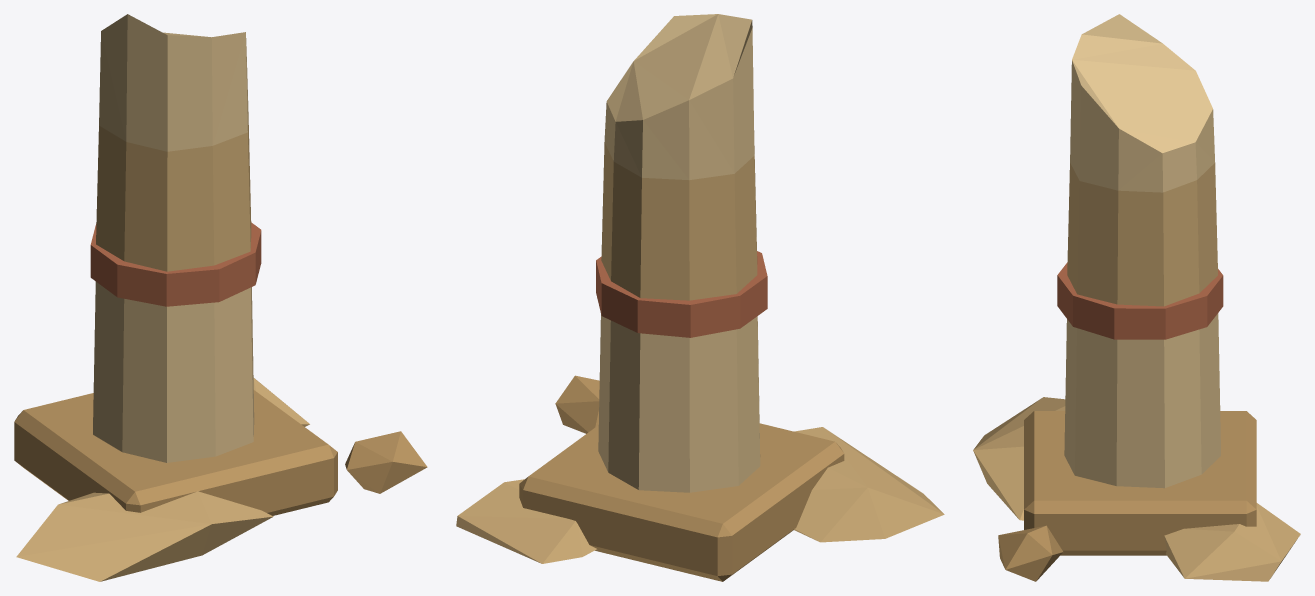
File: Desert_Ruin_Pillar.fbx
The picture shows the model from 3 angles, left to right: view 1: azimuth 30°, elevation 25°; view 2: azimuth 150°, elevation 25°; view 3: azimuth 270°, elevation 25°; orthographic projection. The views are drawn at different scales.
Visible parts, largest first — view 1: Shaft, Plinth, Shaft2, Sand, Band; view 2: Shaft, Plinth, Shaft2, Sand, Band; view 3: Shaft, Plinth, Shaft2, Sand, Band.
Boxes of the visible parts, box(x1,y1,x2,y2) form: Shaft: box(93, 14, 254, 462); Plinth: box(14, 390, 427, 515); Shaft2: box(96, 113, 251, 271); Sand: box(16, 378, 309, 581); Band: box(90, 222, 261, 306); Shaft: box(598, 14, 760, 492); Plinth: box(519, 375, 844, 581); Shaft2: box(601, 142, 757, 300); Sand: box(456, 427, 944, 563); Band: box(596, 251, 767, 337); Shaft: box(1064, 14, 1220, 488); Plinth: box(998, 411, 1256, 581); Shaft2: box(1067, 163, 1217, 306); Sand: box(973, 397, 1300, 581); Band: box(1057, 262, 1223, 339).
Size of the model in its own units: 4.25 by 5.12 by 3.24.
